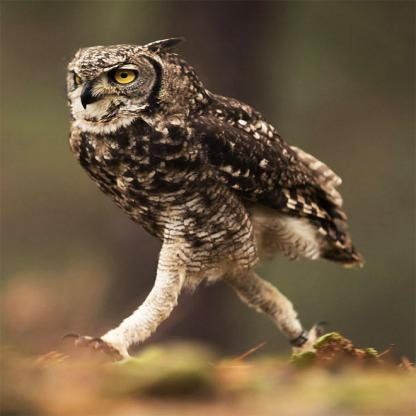owl: (36, 41, 416, 416)
